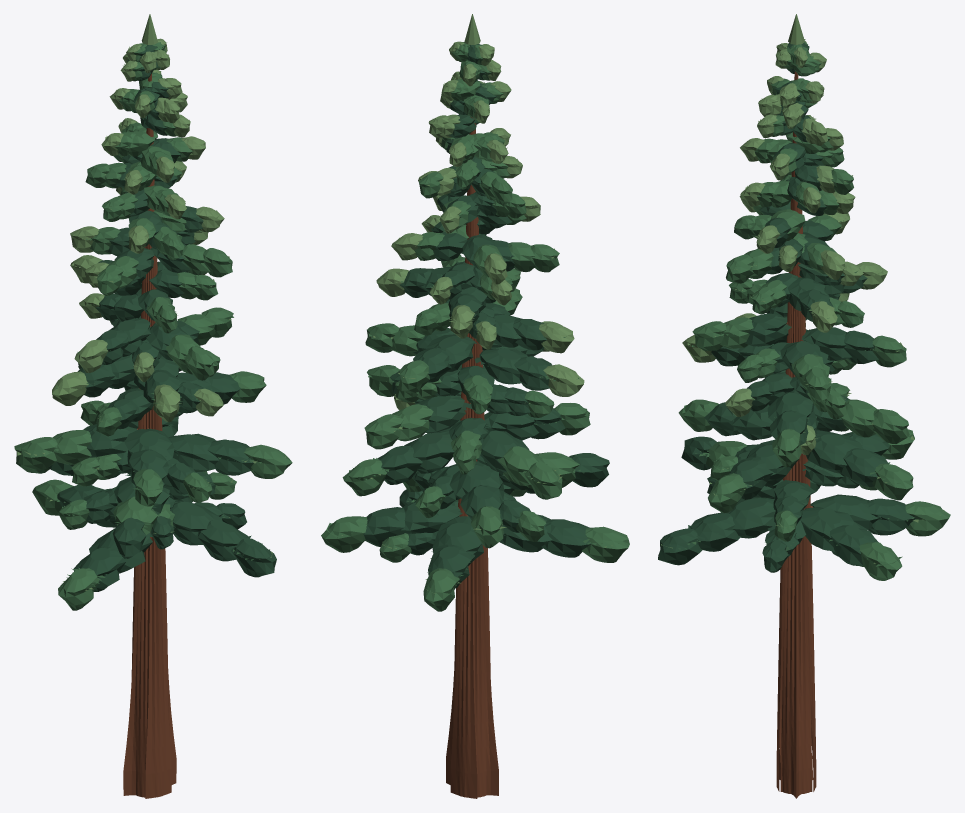
Rendered from mountain_pine.glb.
3 renders of one model, left to right at view 1: azimuth 30°, elevation 25°; view 2: azimuth 150°, elevation 25°; view 3: azimuth 270°, elevation 25°, orthographic.
Visible parts, largest first — view 1: mountain_pine; view 2: mountain_pine; view 3: mountain_pine.
Boxes of the visible parts, x1=… form: mountain_pine: x1=14, y1=14, x2=292, y2=798; mountain_pine: x1=321, y1=14, x2=629, y2=798; mountain_pine: x1=658, y1=14, x2=950, y2=798.
Size of the model in its own units: 14.21 by 45.2 by 15.53.
